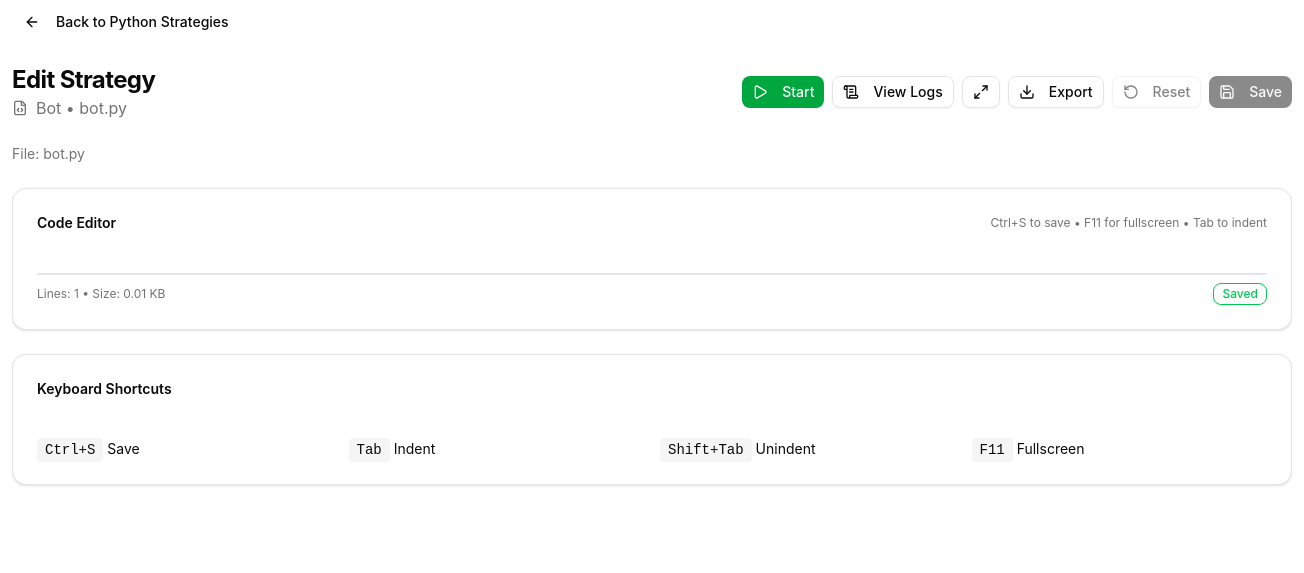
Scenario: run controls in the code editor › starts a stopped strategy and reads its new status back
Click the button "Start". click: (783, 92)
box: x1=742 y1=76 x2=824 y2=108
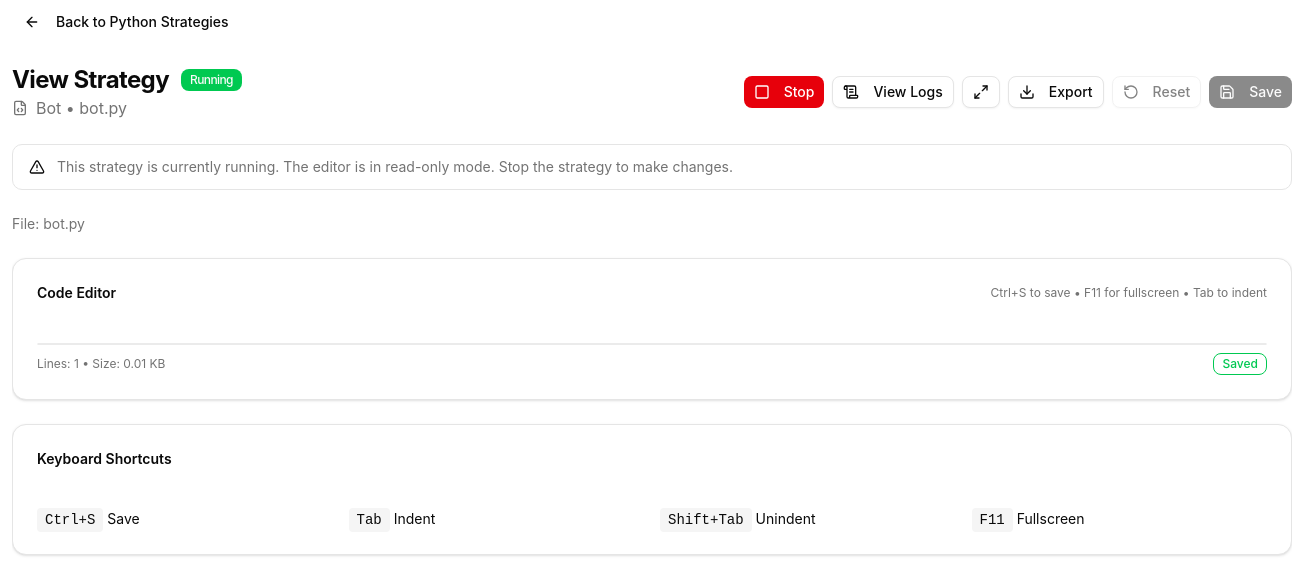
Check: the button "Stop" is shown, box x1=744 y1=76 x2=824 y2=108
